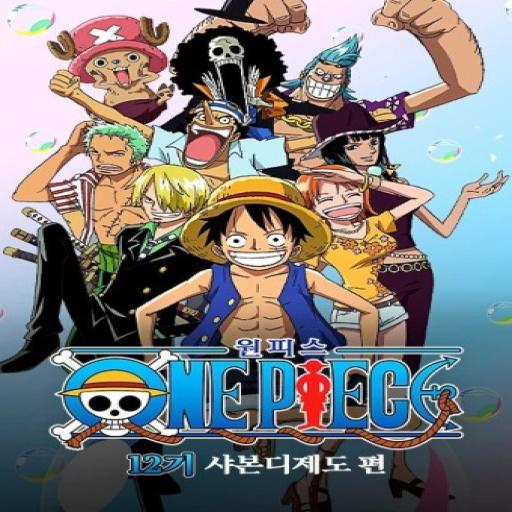Luffy: (185, 175, 316, 279)
Nami: (297, 158, 374, 224)
NicoRobin: (300, 108, 422, 172)
Usopp: (164, 96, 255, 178)
Zoro: (74, 116, 154, 183)
sanji: (124, 158, 232, 224)
